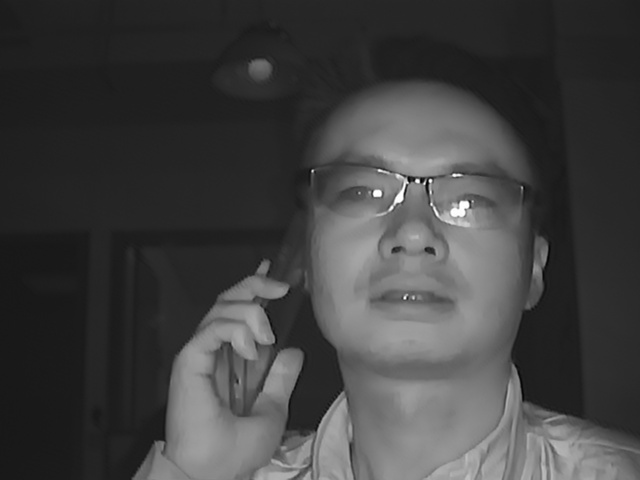hand: (162, 267, 305, 475)
